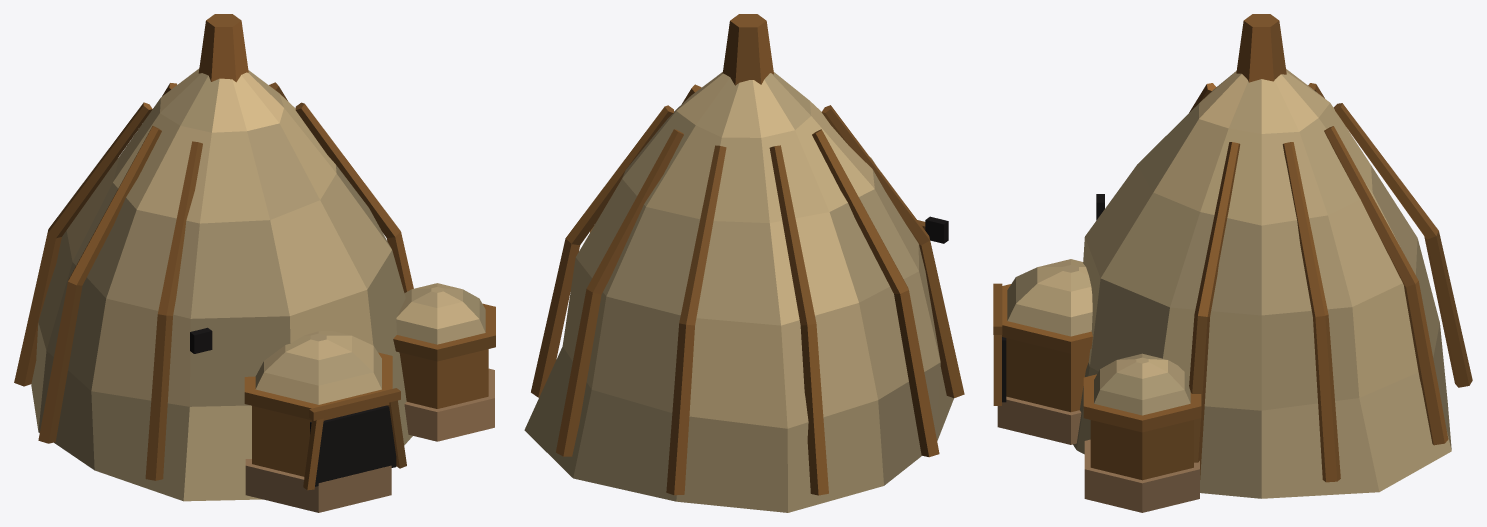
Rendered from hive_mound.glb.
The picture shows the model from 3 angles, left to right: view 1: azimuth 30°, elevation 25°; view 2: azimuth 150°, elevation 25°; view 3: azimuth 270°, elevation 25°; orthographic projection. The views are drawn at different scales.
Visible parts, largest first — view 1: hive_mound; view 2: hive_mound; view 3: hive_mound.
Boxes of the visible parts, x1,y1,x2,y2 form: hive_mound: [14, 14, 495, 512]; hive_mound: [524, 14, 964, 512]; hive_mound: [993, 14, 1472, 512].
Bounding box in the file's own units: 7.75 × 7.3 × 8.05.
Materials: 1 (1 with a texture image).
